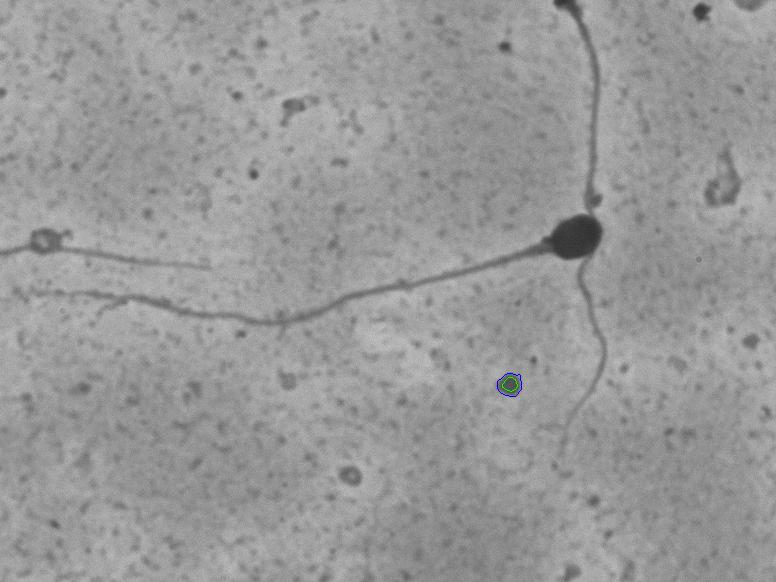Abnormal: (60, 164, 607, 365)
